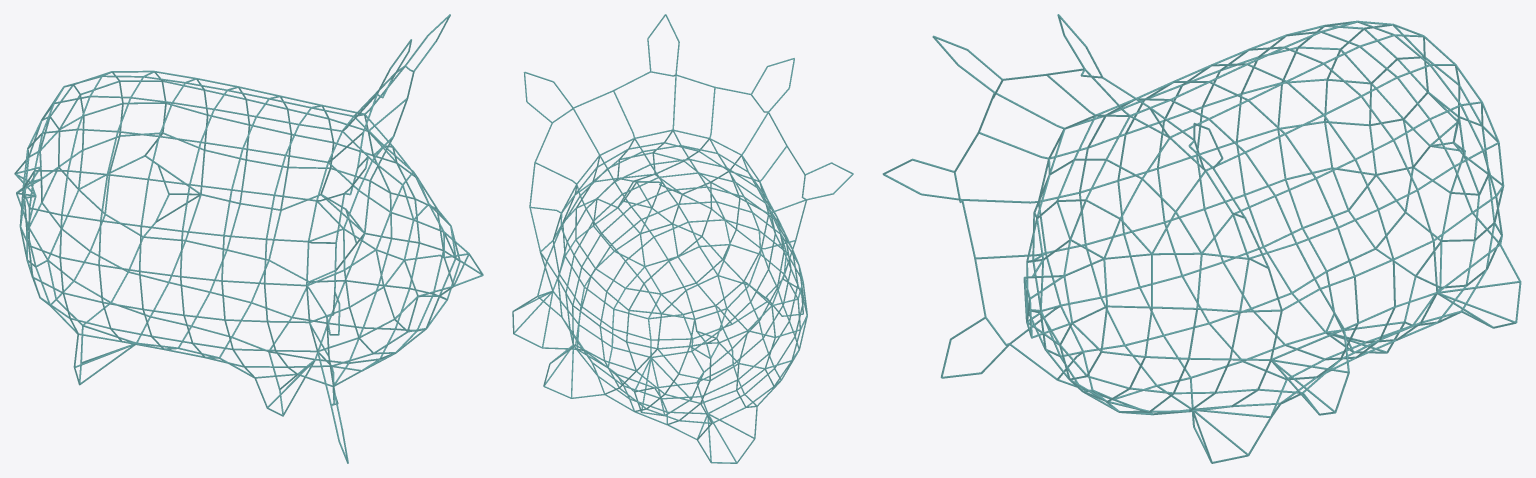
Rendered from Triceratops.gltf.
3 renders of one model, left to right at view 1: azimuth 30°, elevation 25°; view 2: azimuth 150°, elevation 25°; view 3: azimuth 270°, elevation 25°, orthographic. The views are drawn at different scales.
Size of the model in its own units: 1.44 by 1.51 by 1.8.
